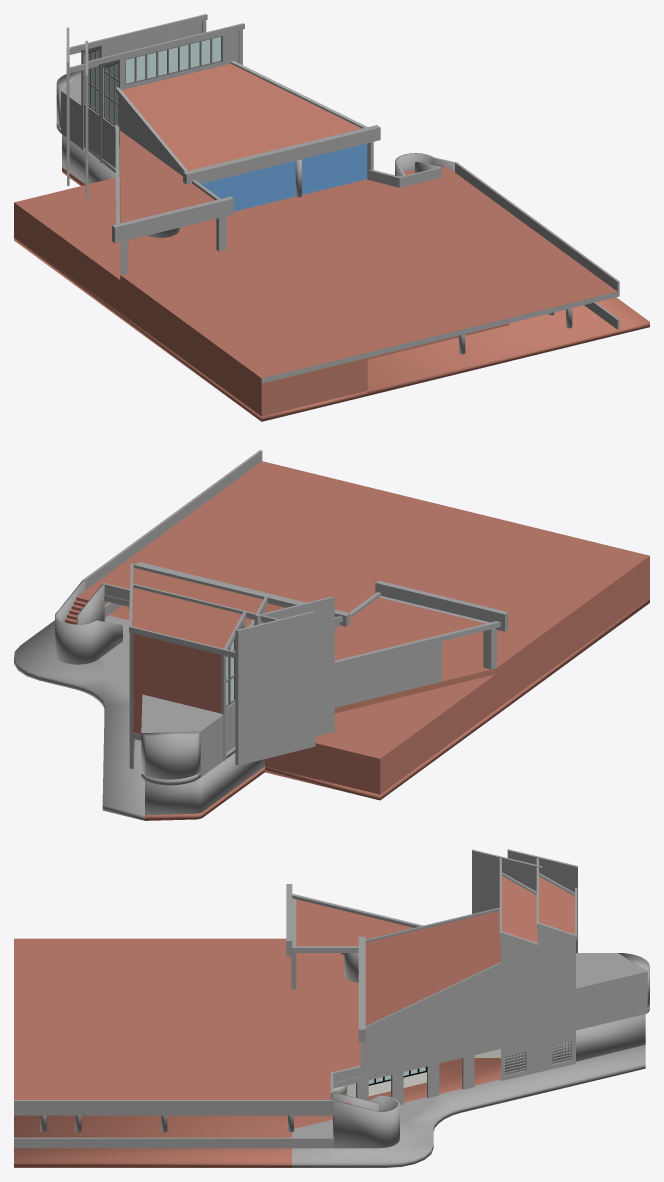
Rendered from Capilla.glb.
3 views of the same model, one above another, from view 1: azimuth 30°, elevation 25°; view 2: azimuth 150°, elevation 25°; view 3: azimuth 270°, elevation 25° (orthographic). The views are drawn at different scales.
Parts seen in each view (by area): view 1: Cube.027, Cube.036, Cube.012, Cube.026, Cube.004, Cube.007, Cube.008, Cube.013, Cube.015, Cube.019, Cube.005, Cube.017 (+8 smaller); view 2: Cube.027, Cube.036, Cube.011, Cube.026, Cube.010, Cube.007, Cube.005, Cube.015, Cube.021, Cube.009, Cylinder.015, Cube.008 (+9 smaller); view 3: Cube.027, Cube.026, Cube.012, Cube.006, Cube.014, Cube.008, Cube.010, Cube.009, Cube.011, Cube.015, Cylinder.015, Cube.021 (+6 smaller).
Part boxes in pixels (x1,y1,x2,y2): Cube.027: (120, 172, 619, 383); Cube.036: (14, 177, 367, 416); Cube.012: (116, 61, 367, 172); Cube.026: (62, 167, 649, 395); Cube.004: (120, 98, 367, 211); Cube.007: (84, 21, 238, 170); Cube.008: (367, 162, 619, 329); Cube.013: (183, 125, 380, 184); Cube.015: (120, 183, 226, 275); Cube.019: (125, 35, 222, 85); Cube.005: (120, 130, 184, 220); Cube.017: (112, 196, 233, 243); Cube.027: (85, 461, 649, 713); Cube.036: (265, 562, 649, 794); Cube.011: (235, 596, 334, 765); Cube.026: (14, 601, 264, 820); Cube.010: (129, 563, 299, 658); Cube.007: (133, 608, 264, 752); Cube.005: (334, 625, 419, 707); Cube.015: (349, 595, 496, 686); Cube.021: (145, 753, 264, 815); Cube.009: (141, 694, 223, 771); Cylinder.015: (55, 579, 122, 664); Cube.008: (83, 450, 262, 617); Cube.027: (14, 938, 360, 1115); Cube.026: (14, 1045, 645, 1167); Cube.012: (365, 907, 500, 1031); Cube.006: (501, 929, 575, 1080); Cube.014: (333, 968, 500, 1091); Cube.008: (14, 1065, 360, 1148); Cube.010: (499, 858, 577, 949); Cube.009: (576, 953, 647, 1025); Cube.011: (472, 849, 577, 952); Cube.015: (291, 898, 360, 989); Cylinder.015: (334, 1095, 399, 1148); Cube.021: (505, 1014, 645, 1074).
Bounding box in the file's own units: 32.53 × 12.68 × 45.91.
